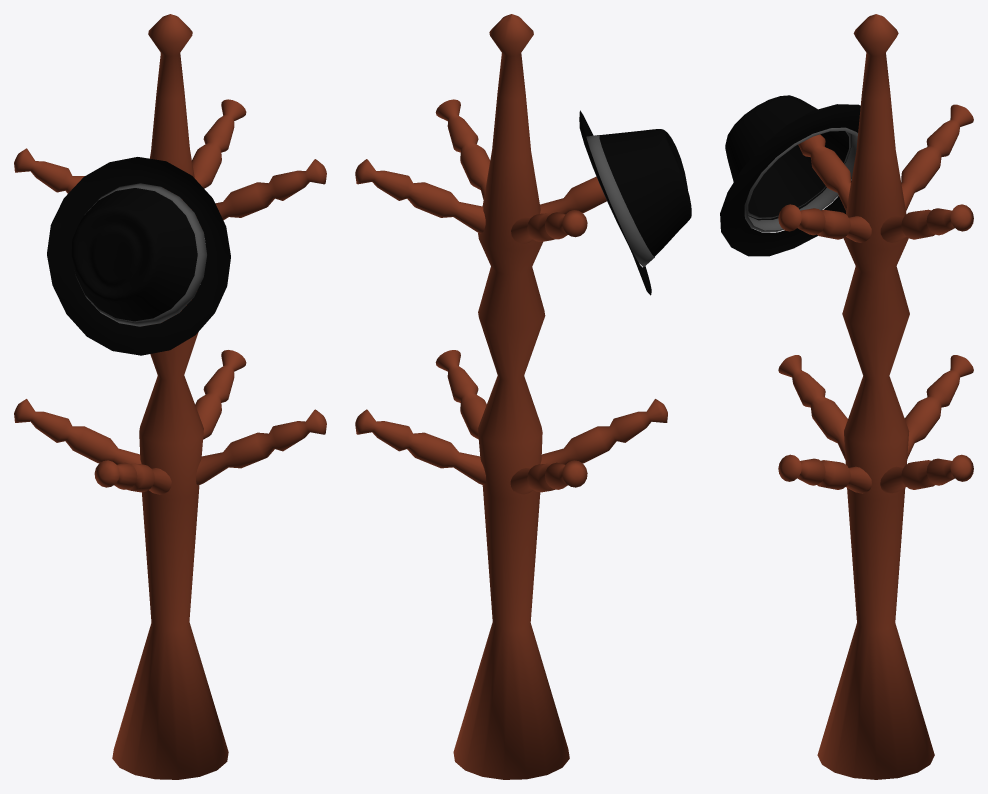
The model's file is cabide_chapeu.glb.
3 views of the same model, side by side, from view 1: azimuth 30°, elevation 25°; view 2: azimuth 150°, elevation 25°; view 3: azimuth 270°, elevation 25° (orthographic).
Parts seen in each view (by area): view 1: Circle, Cylinder, Circle.002, Circle.001, Cylinder.001; view 2: Circle, Circle.002, Circle.001, Cylinder, Cylinder.001; view 3: Circle, Cylinder, Circle.002, Circle.001, Cylinder.001.
Part boxes in pixels (x1=…): Circle: x1=112, y1=14, x2=228, y2=779; Cylinder: x1=47, y1=157, x2=230, y2=355; Circle.002: x1=14, y1=350, x2=326, y2=494; Circle.001: x1=14, y1=99, x2=326, y2=220; Cylinder.001: x1=75, y1=183, x2=206, y2=326; Circle: x1=453, y1=14, x2=569, y2=779; Circle.002: x1=355, y1=350, x2=667, y2=494; Circle.001: x1=355, y1=99, x2=606, y2=243; Cylinder: x1=579, y1=110, x2=691, y2=295; Cylinder.001: x1=586, y1=135, x2=654, y2=267; Circle: x1=817, y1=14, x2=934, y2=779; Cylinder: x1=720, y1=95, x2=860, y2=256; Circle.002: x1=778, y1=355, x2=973, y2=493; Circle.001: x1=778, y1=104, x2=973, y2=242; Cylinder.001: x1=744, y1=127, x2=857, y2=232.
Size of the model in its own units: 0.6527 by 1.83 by 0.5693.
